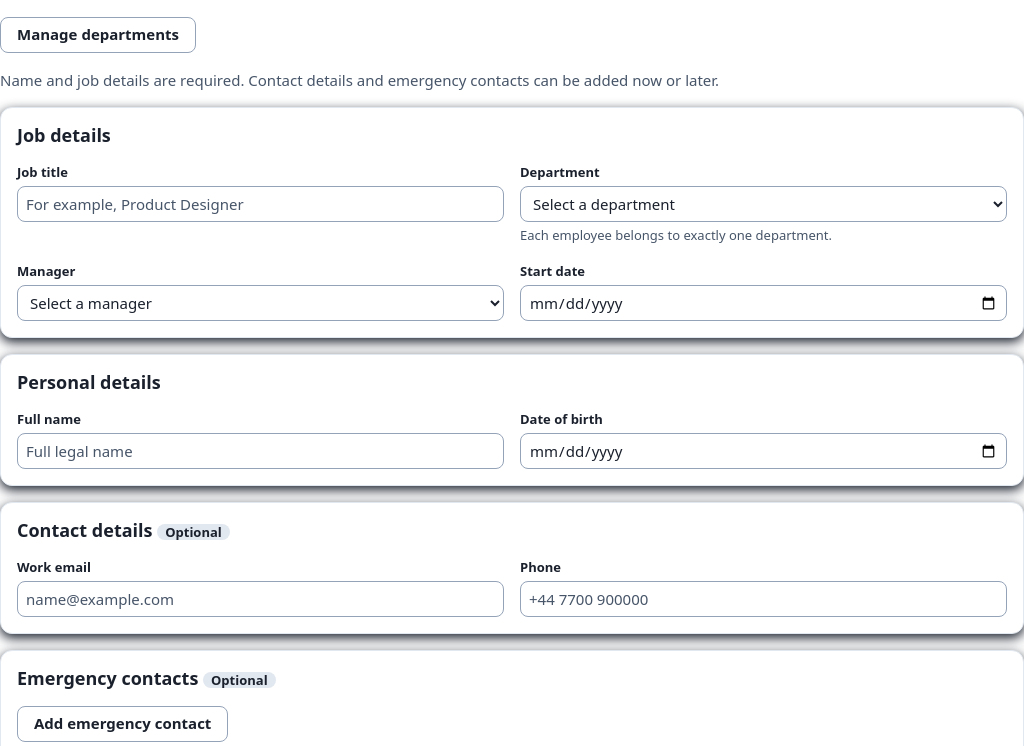
it: EmployeeRecordPage: new record › does not save when Department is missing (AC8)
Step 1. Type "Product Designer" into the field labelled "Job title" → point(260, 204), box x1=17 y1=186 x2=504 y2=222
Step 2. Select "Design" in the dropdown labelled "Department" → point(764, 204), box x1=520 y1=186 x2=1007 y2=222
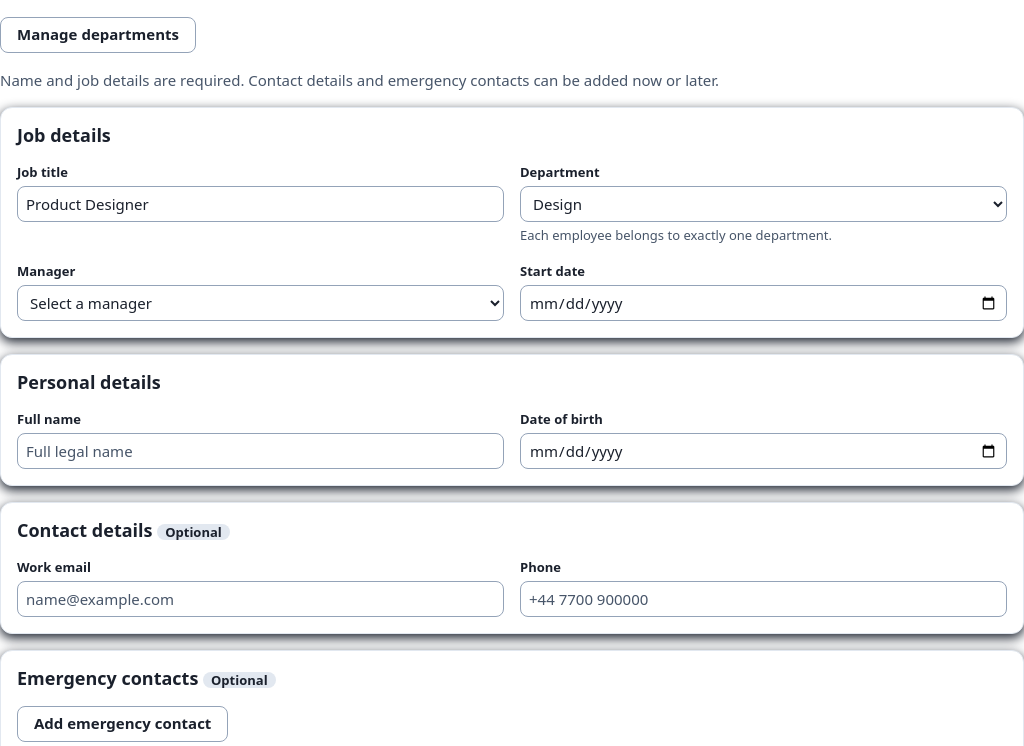
Step 3. Select "Ana Costa" in the dropdown labelled "Manager" → point(260, 303), box x1=17 y1=285 x2=504 y2=321
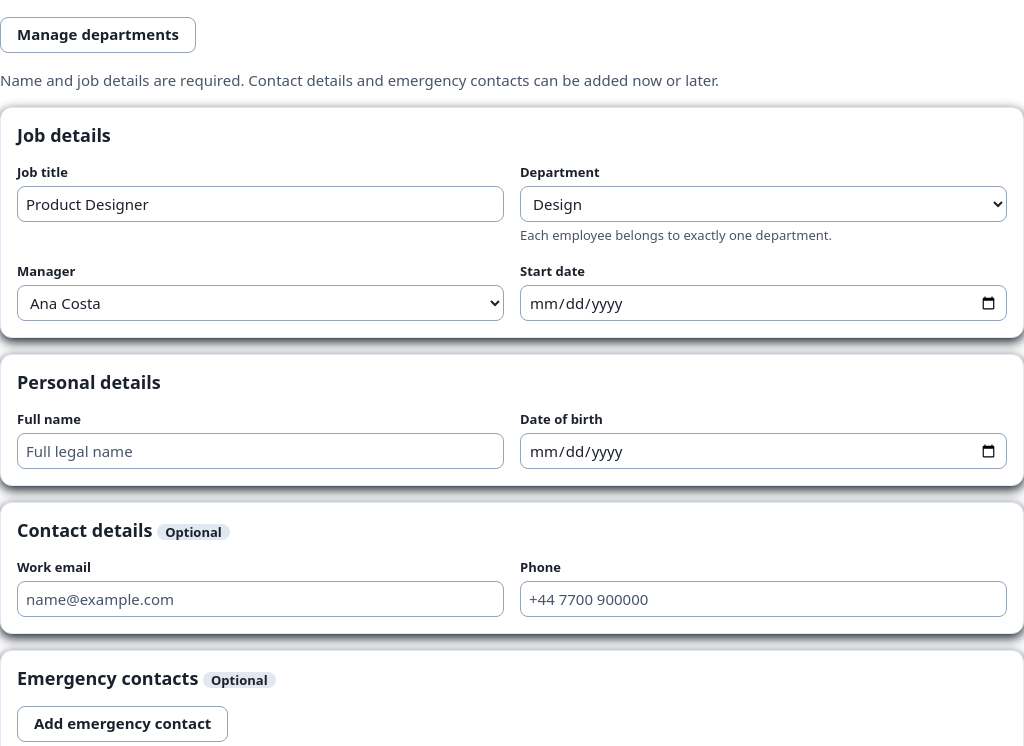
Step 4. Type "2026-03-02" into the date field labelled "Start date" → point(764, 303), box x1=520 y1=285 x2=1007 y2=321
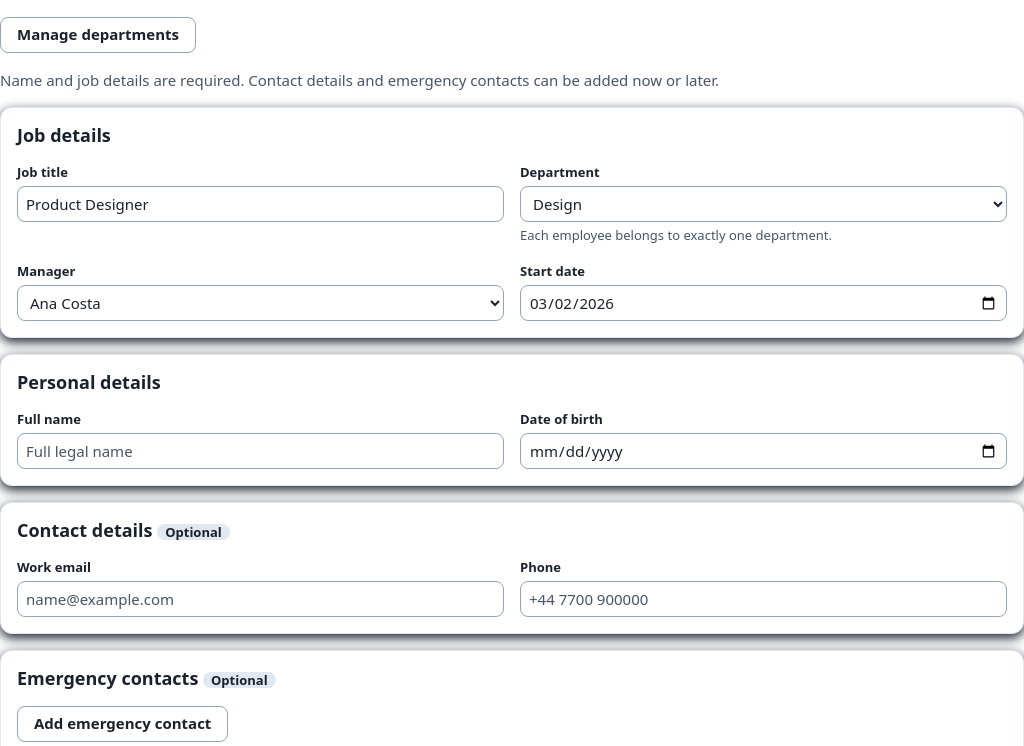
Step 5. Type "Priya Shah" into the field labelled "Full name" → point(260, 451), box x1=17 y1=433 x2=504 y2=469
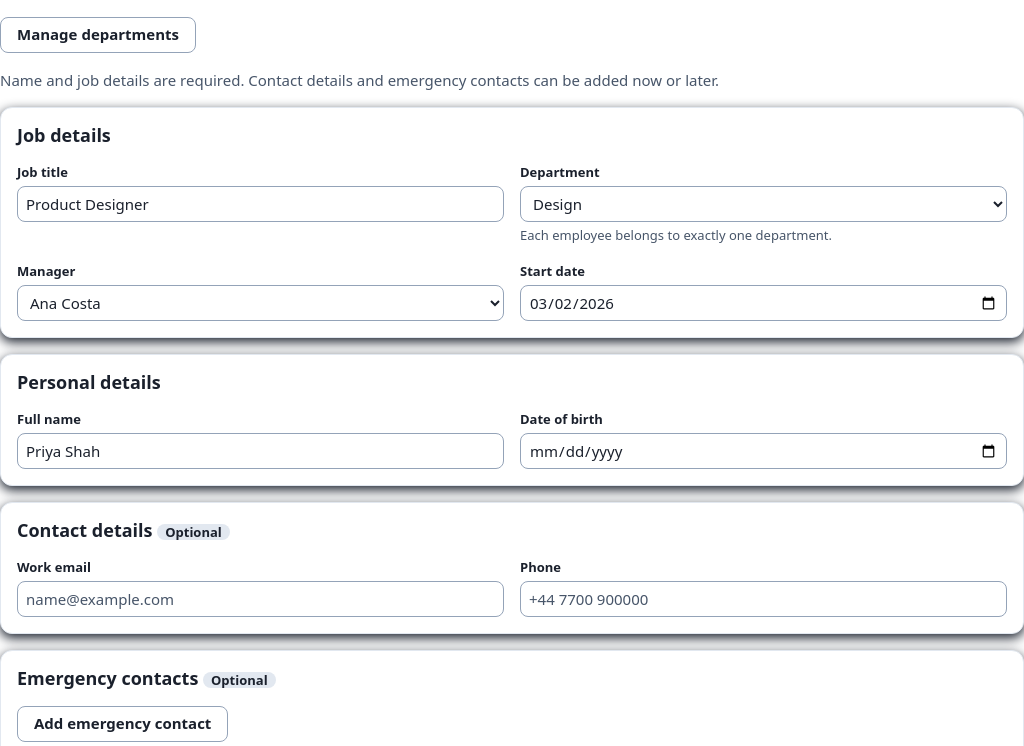
Step 6. Select "Select a department" in the dropdown labelled "Department" → point(764, 204), box x1=520 y1=186 x2=1007 y2=222
(page scrolled)
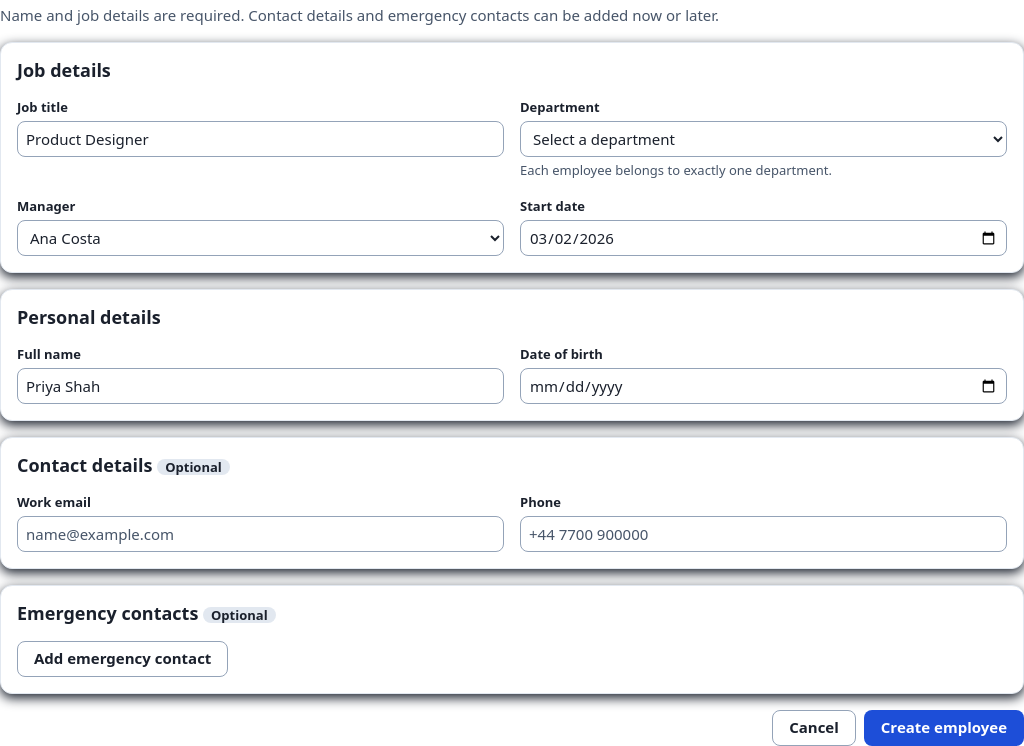
Step 7. Click the button "Create employee" → point(944, 728), box x1=864 y1=710 x2=1023 y2=745
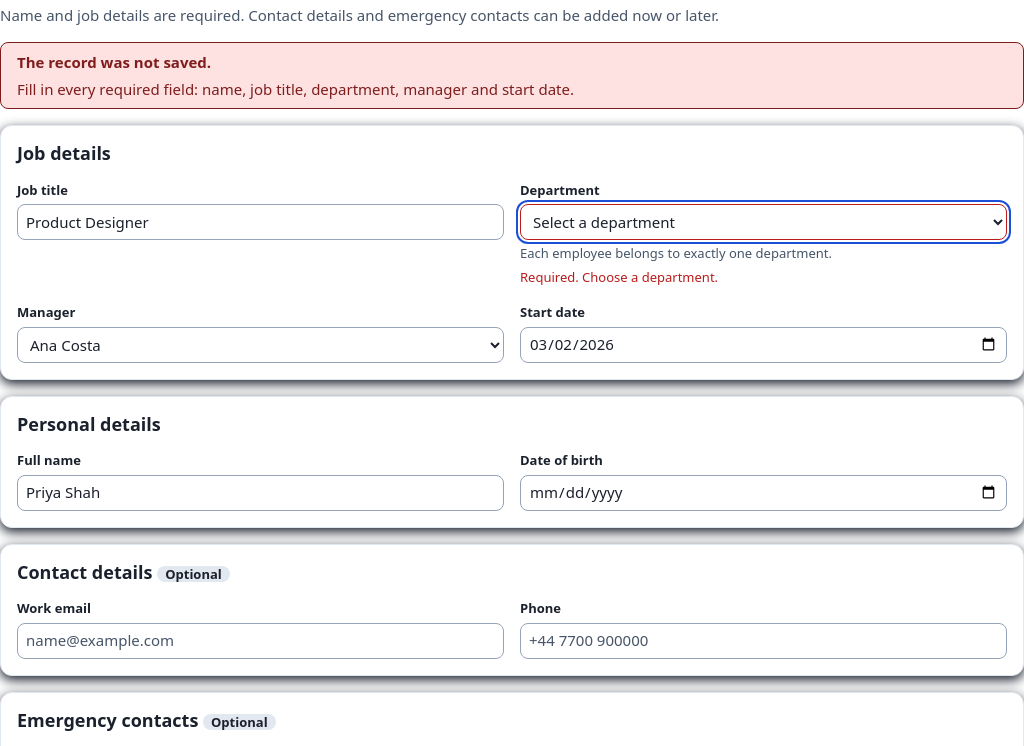
Now the text "The record was not saved." is shown, box x1=17 y1=52 x2=211 y2=72
